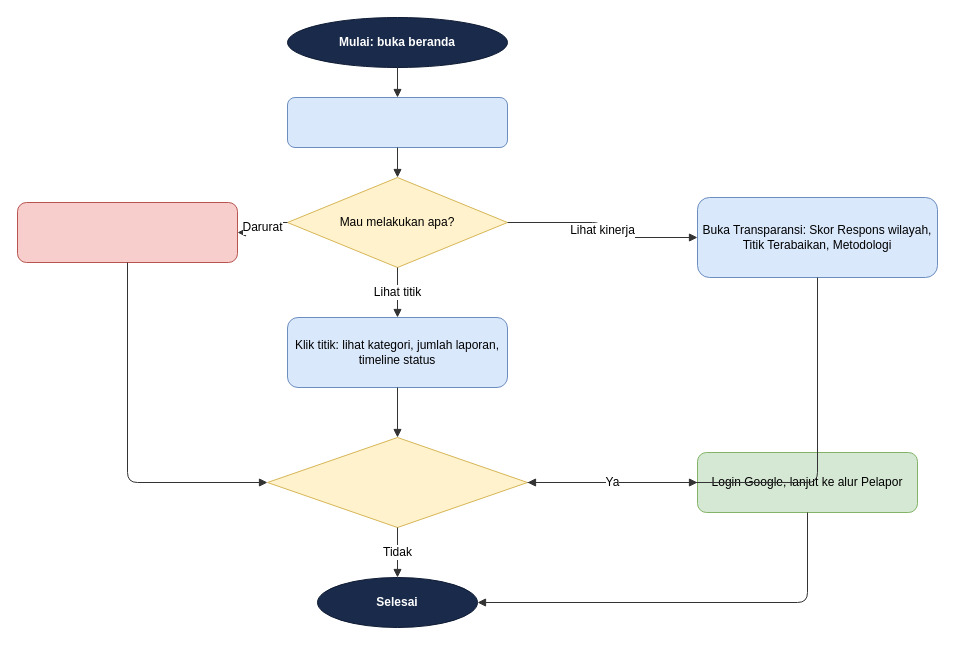
Image size: 955x645. Some labels were removed from this diagram. Here are the shapes that lost their labels. From the top down, the box of each, then its label:
(286, 96, 508, 148): Lihat peta, heatmap, dan titik terdekat
(16, 202, 238, 262): Buka Darurat: telepon 112 atau bagikan lokasi
(266, 436, 528, 528): Ingin melapor atau mengonfirmasi?
